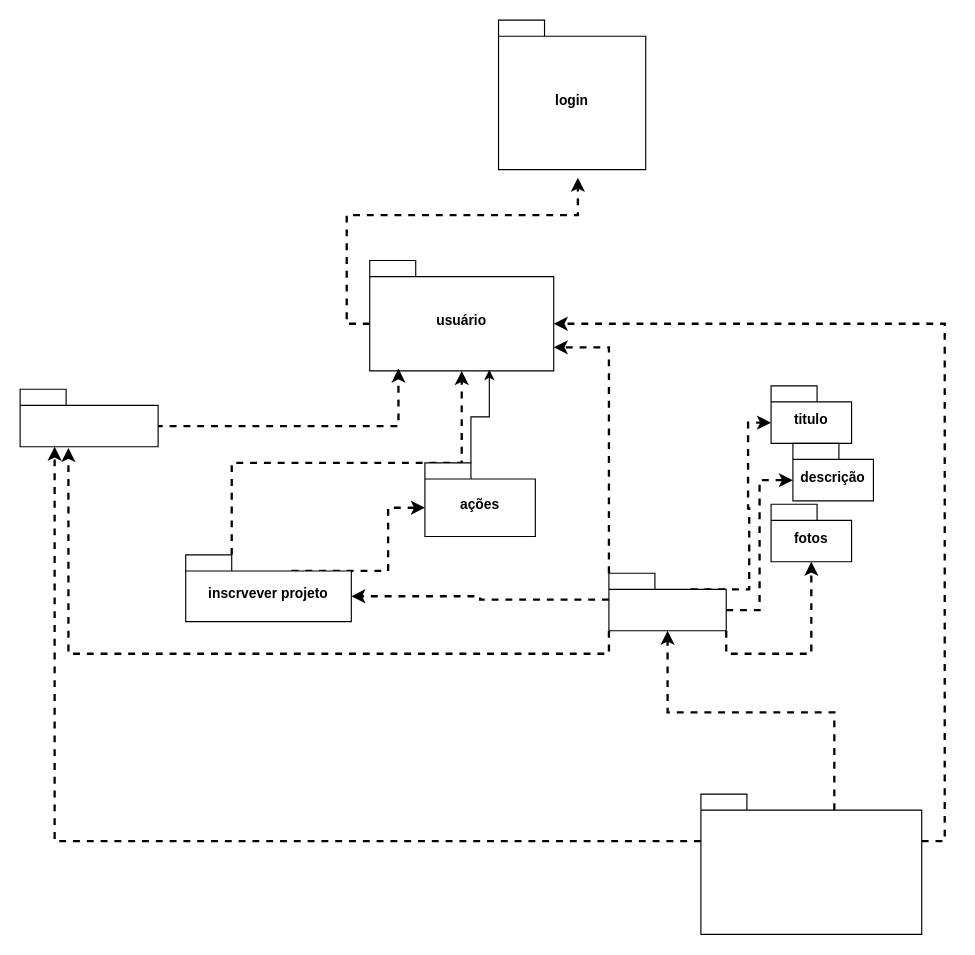
Some shapes in this 975 by 955 pixel diagram are drawn without their labels. The centre of each missing label's shape, as x and y in pixels:
"dadosda conta" goes at (88,417).
"incrições" goes at (811,863).
"projeto" goes at (667,601).
